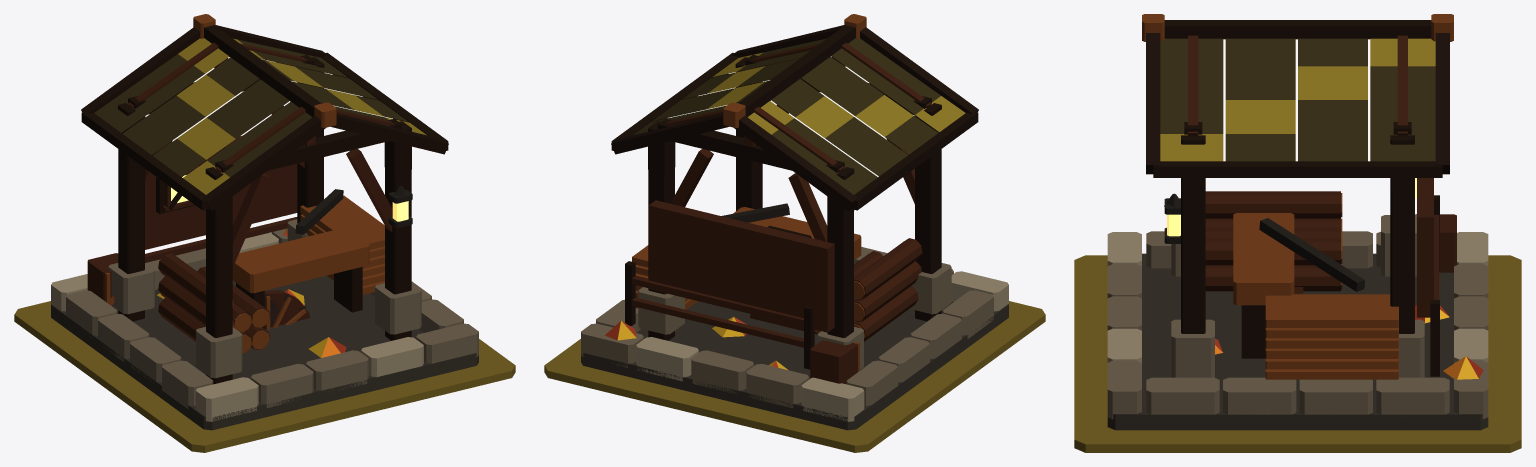
The model's file is sawmill_t5.glb.
The picture shows the model from 3 angles, left to right: view 1: azimuth 30°, elevation 25°; view 2: azimuth 150°, elevation 25°; view 3: azimuth 270°, elevation 25°; orthographic projection. The views are drawn at different scales.
Visible parts, largest first — view 1: MMR | sawmill | T05 Architecture.001, MMR | sawmill | Tier 05 Ground.001, MMR | sawmill | T05 Header Frame.001, MMR | sawmill | T05 Drive Wheel.001, MMR | sawmill | T05 Autumn Dressing.001; view 2: MMR | sawmill | T05 Architecture.001, MMR | sawmill | Tier 05 Ground.001, MMR | sawmill | T05 Header Frame.001, MMR | sawmill | T05 Autumn Dressing.001; view 3: MMR | sawmill | T05 Architecture.001, MMR | sawmill | Tier 05 Ground.001, MMR | sawmill | T05 Header Frame.001, MMR | sawmill | T05 Autumn Dressing.001.
Boxes of the visible parts, left/top/right/bottom form: MMR | sawmill | T05 Architecture.001: left=51, top=14, right=478, bottom=430; MMR | sawmill | Tier 05 Ground.001: left=14, top=301, right=515, bottom=452; MMR | sawmill | T05 Header Frame.001: left=118, top=42, right=411, bottom=217; MMR | sawmill | T05 Drive Wheel.001: left=264, top=290, right=309, bottom=329; MMR | sawmill | T05 Autumn Dressing.001: left=157, top=228, right=346, bottom=357; MMR | sawmill | T05 Architecture.001: left=581, top=14, right=1008, bottom=430; MMR | sawmill | Tier 05 Ground.001: left=544, top=301, right=1045, bottom=452; MMR | sawmill | T05 Header Frame.001: left=648, top=42, right=941, bottom=217; MMR | sawmill | T05 Autumn Dressing.001: left=605, top=317, right=788, bottom=370; MMR | sawmill | T05 Architecture.001: left=1107, top=14, right=1488, bottom=430; MMR | sawmill | Tier 05 Ground.001: left=1074, top=255, right=1521, bottom=452; MMR | sawmill | T05 Header Frame.001: left=1181, top=35, right=1414, bottom=189; MMR | sawmill | T05 Autumn Dressing.001: left=1215, top=305, right=1483, bottom=379.
Bounding box in the file's own units: 2.35 × 2.26 × 2.35.
2 materials, 1 textured.
